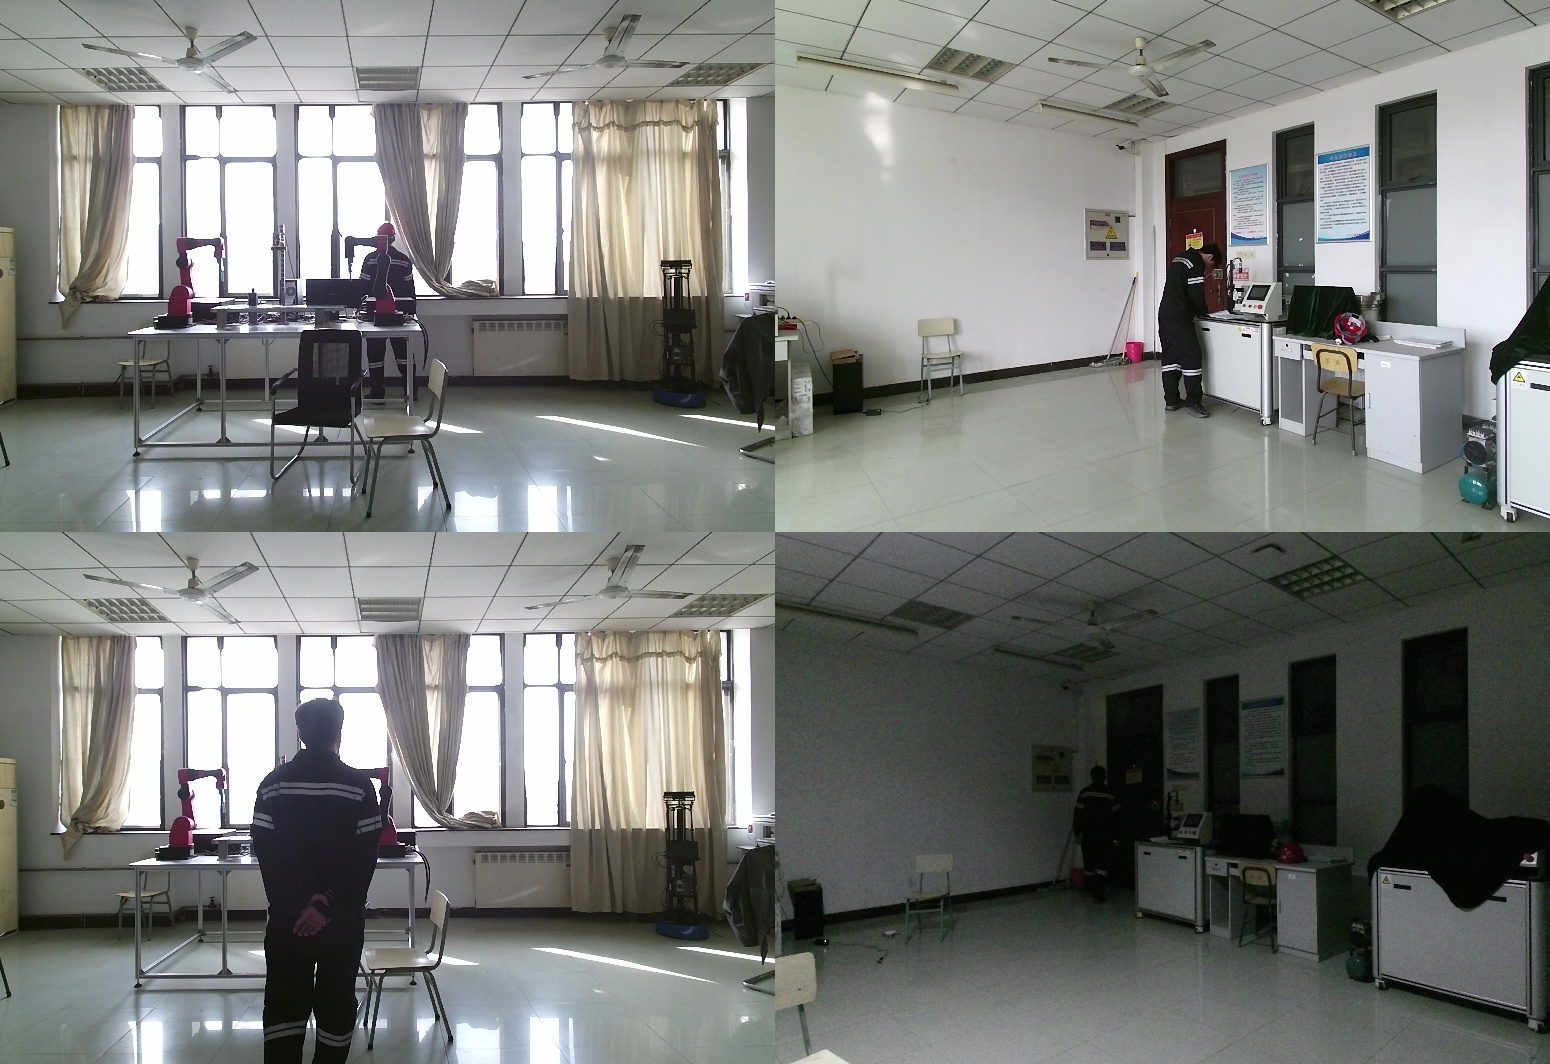person: (249, 699, 398, 1064), (353, 224, 417, 414), (1159, 245, 1219, 417), (1070, 767, 1127, 908)
